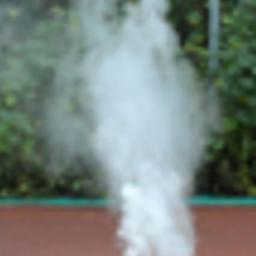smoke: (0, 0, 219, 255)
